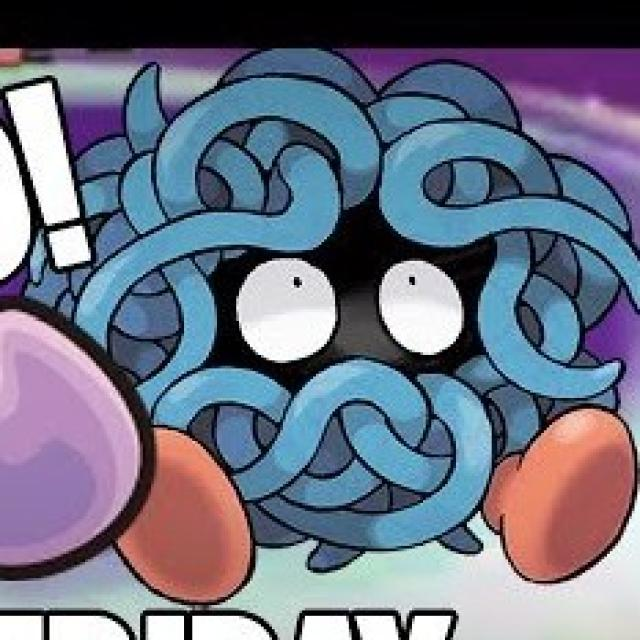Tangela: (77, 59, 640, 626)
